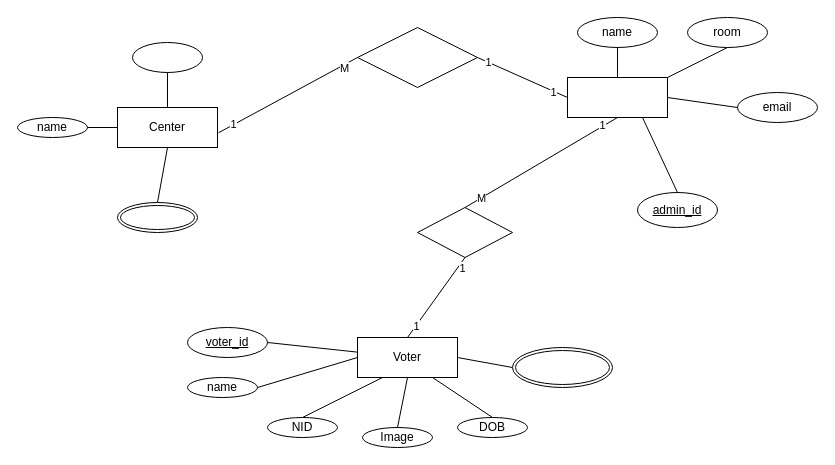
Some shapes in this 835 by 465 pixel diagram are drawn without their labels. Here are the shapes that lost their labels. From the top down, the centre of each, then its label:
At (x=167, y=57): "center_id".
At (x=417, y=57): "AssignedTo".
At (x=617, y=97): "Admin".
At (x=157, y=217): "Candidates".
At (x=464, y=232): "Has".
At (x=562, y=367): "Address".
